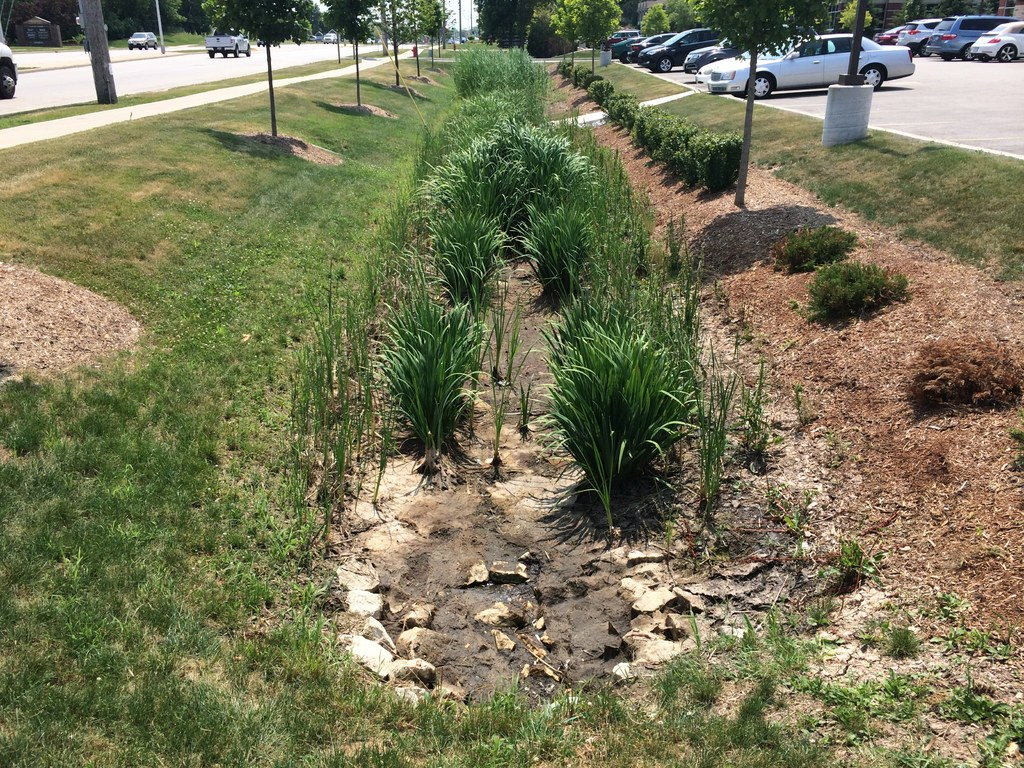Tree: (0, 0, 451, 106), (472, 1, 988, 62), (572, 0, 622, 79)
